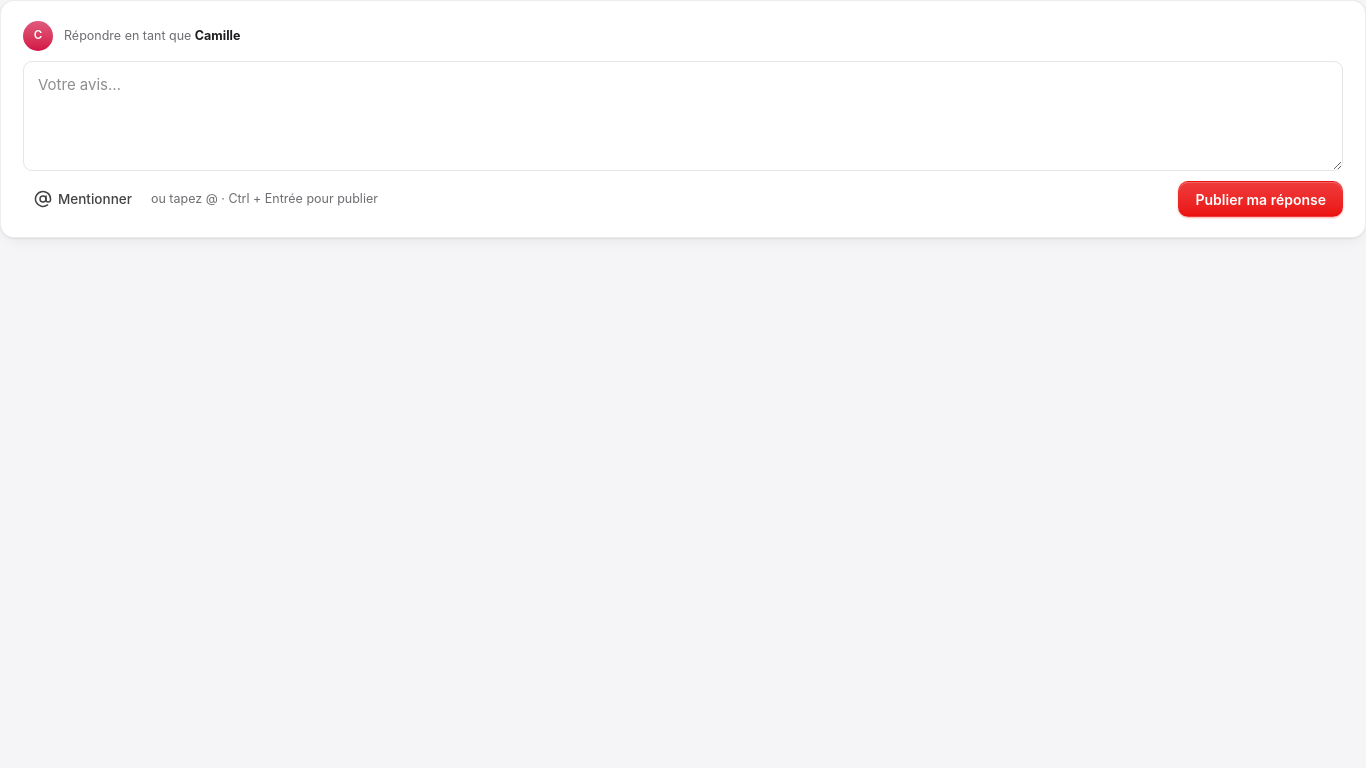
optimistic reply › gives the text back when publishing fails
In the text box named "Votre réponse": (683, 116) [23,61,1343,171], type "Merci !"
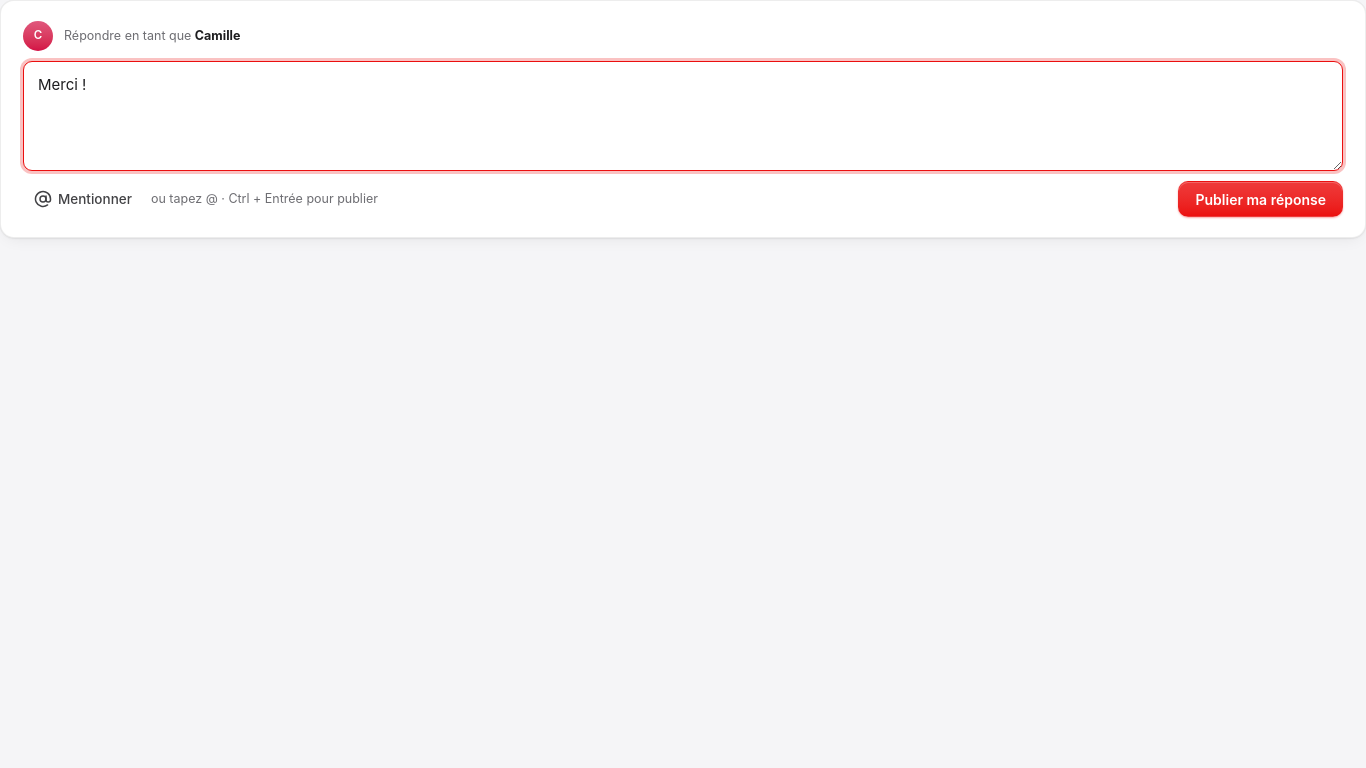
Click the button "Publier ma réponse": (1261, 199) [1178,181,1343,217]
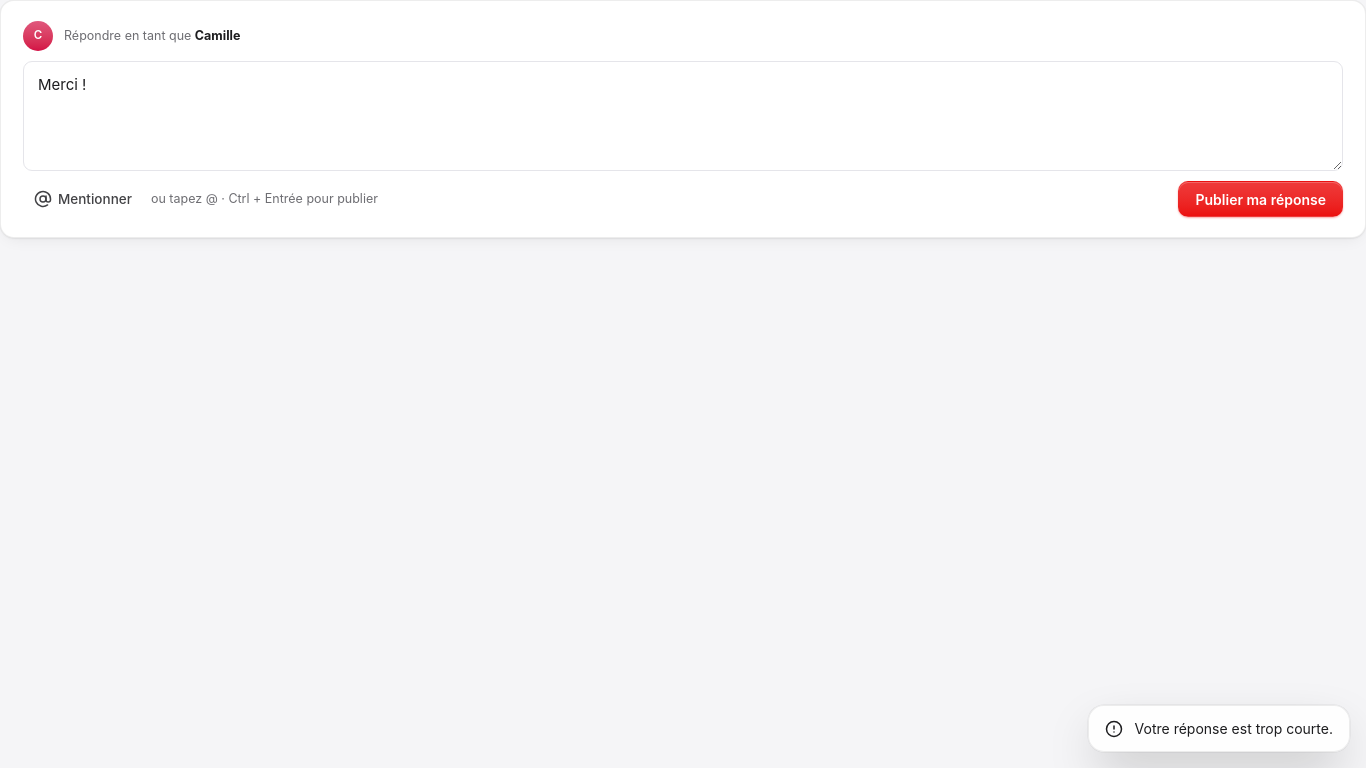
Now the text "Votre réponse est trop courte." is shown, box [1135,718,1333,739]
